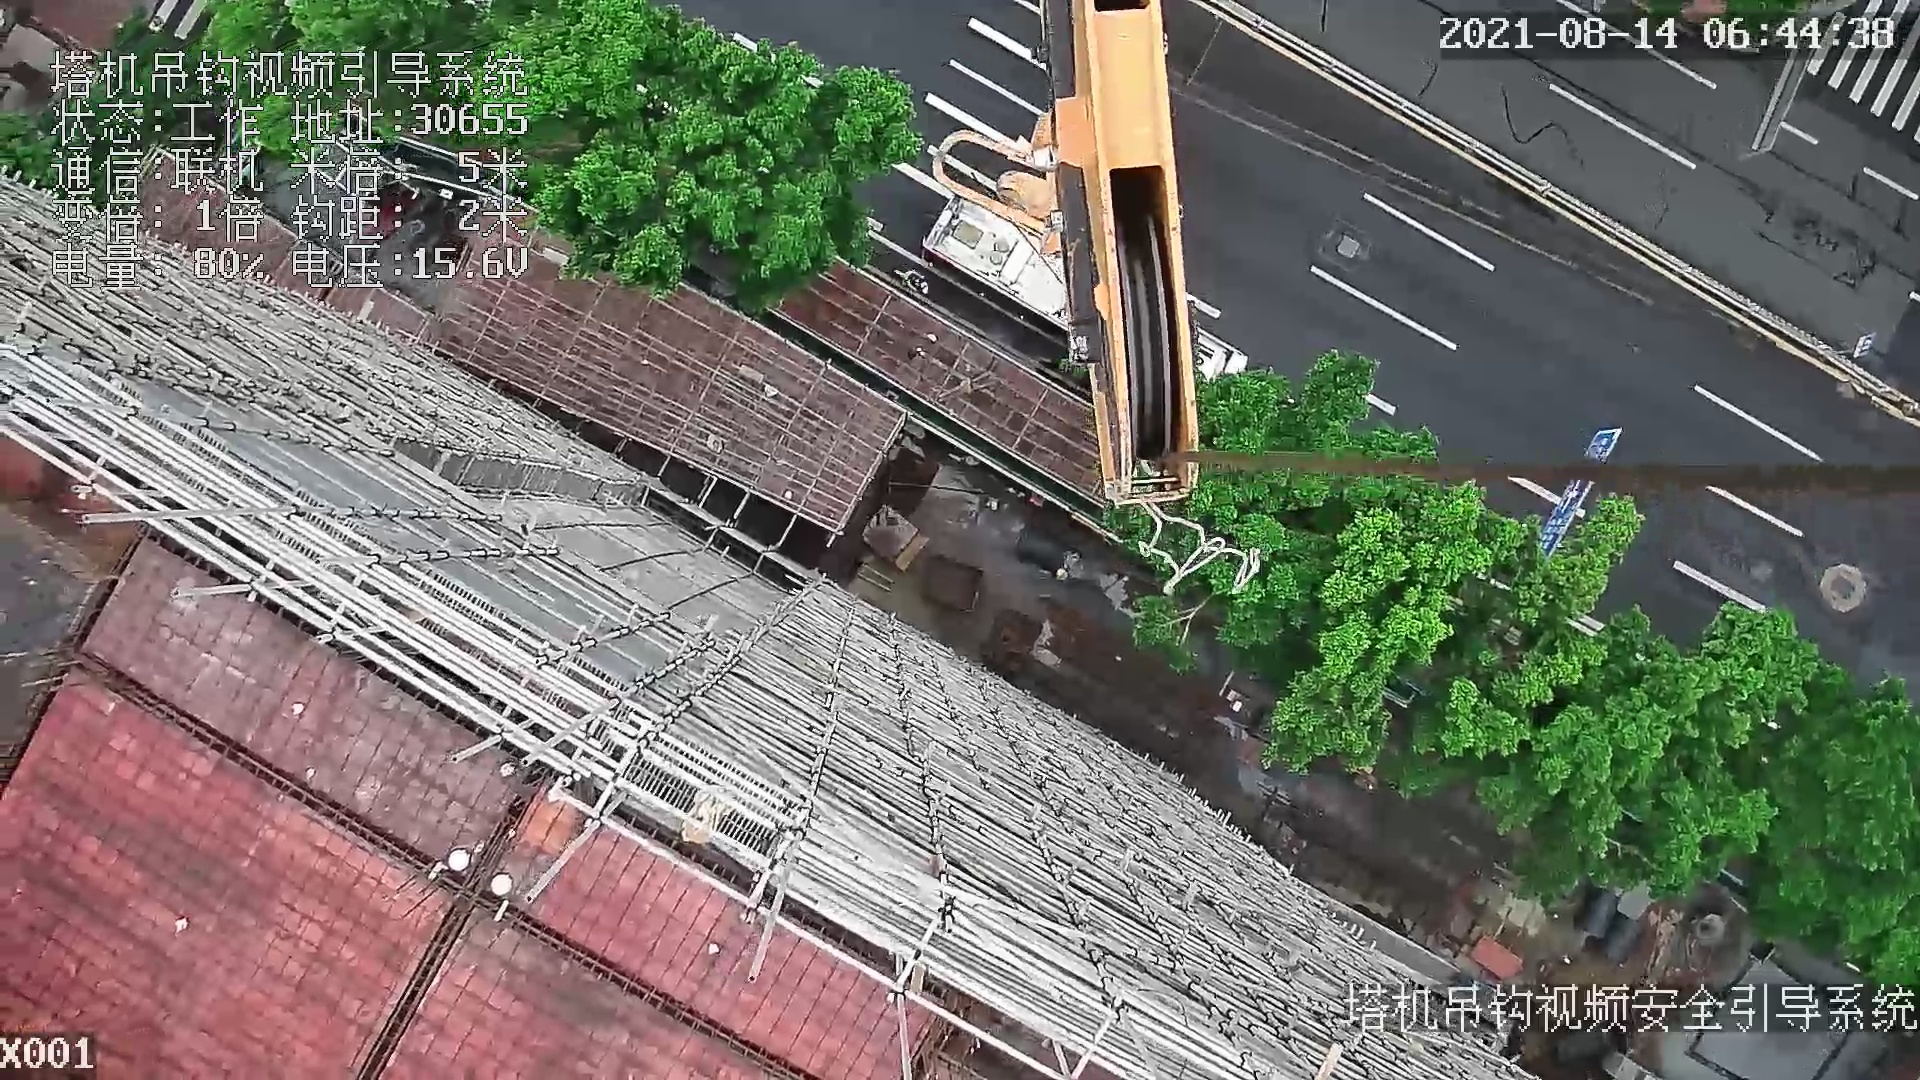hook: (926, 11, 1211, 505)
